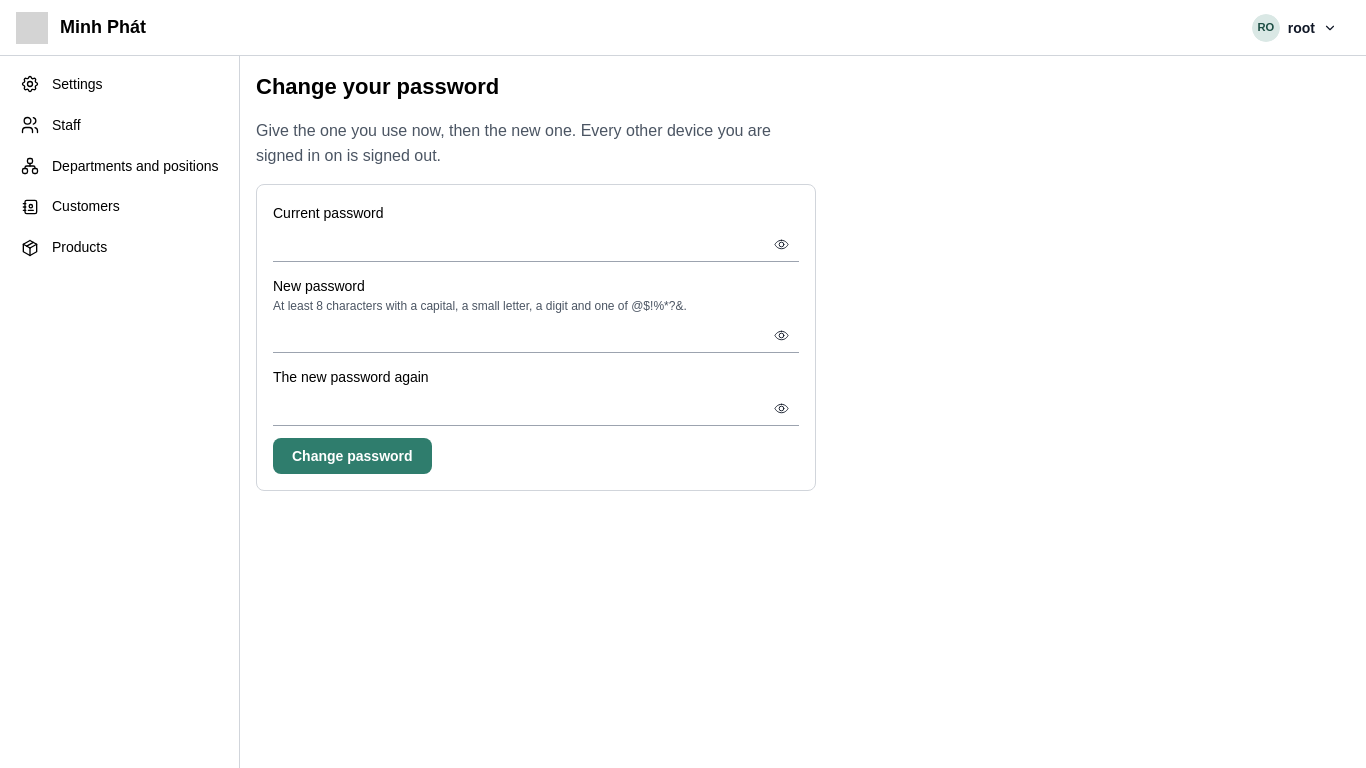
one’s own password › C: The root changes their own password too, and takes the session that replaces theirs
Type "Old-password-1!" into the password field labelled "Current password" at (536, 244), box [273,226,799,261]
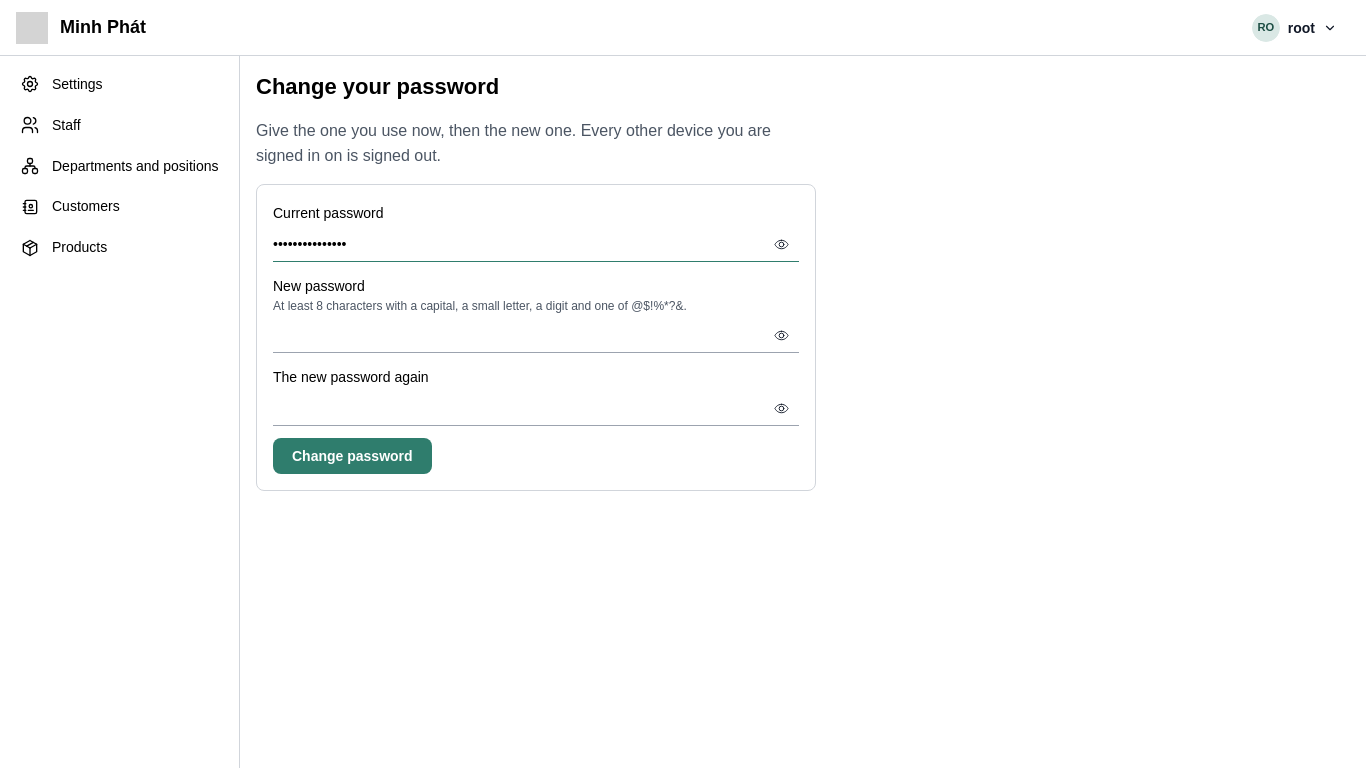
Type "New-password-2@" into the password field labelled "New password" at (536, 335), box [273,317,799,352]
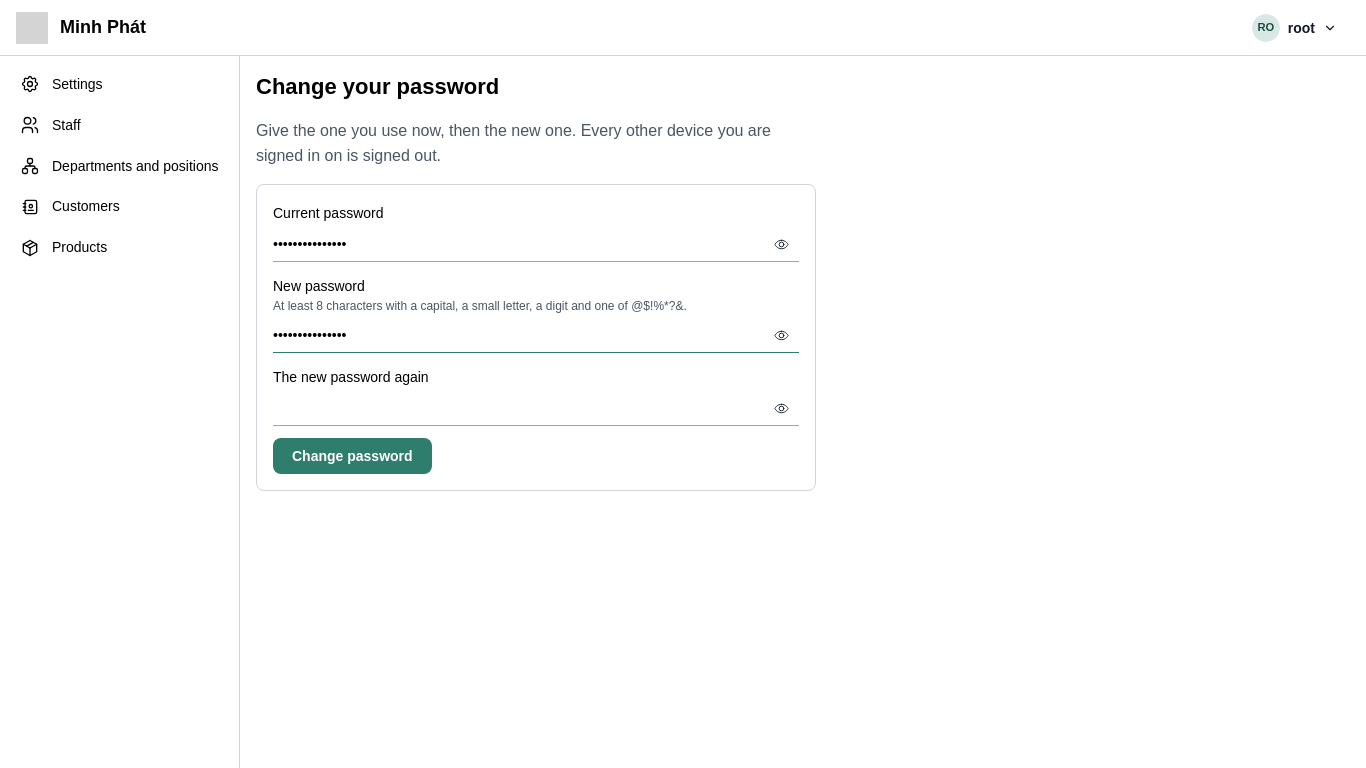
Type "New-password-2@" into the password field labelled "The new password again" at (536, 408), box [273,390,799,425]
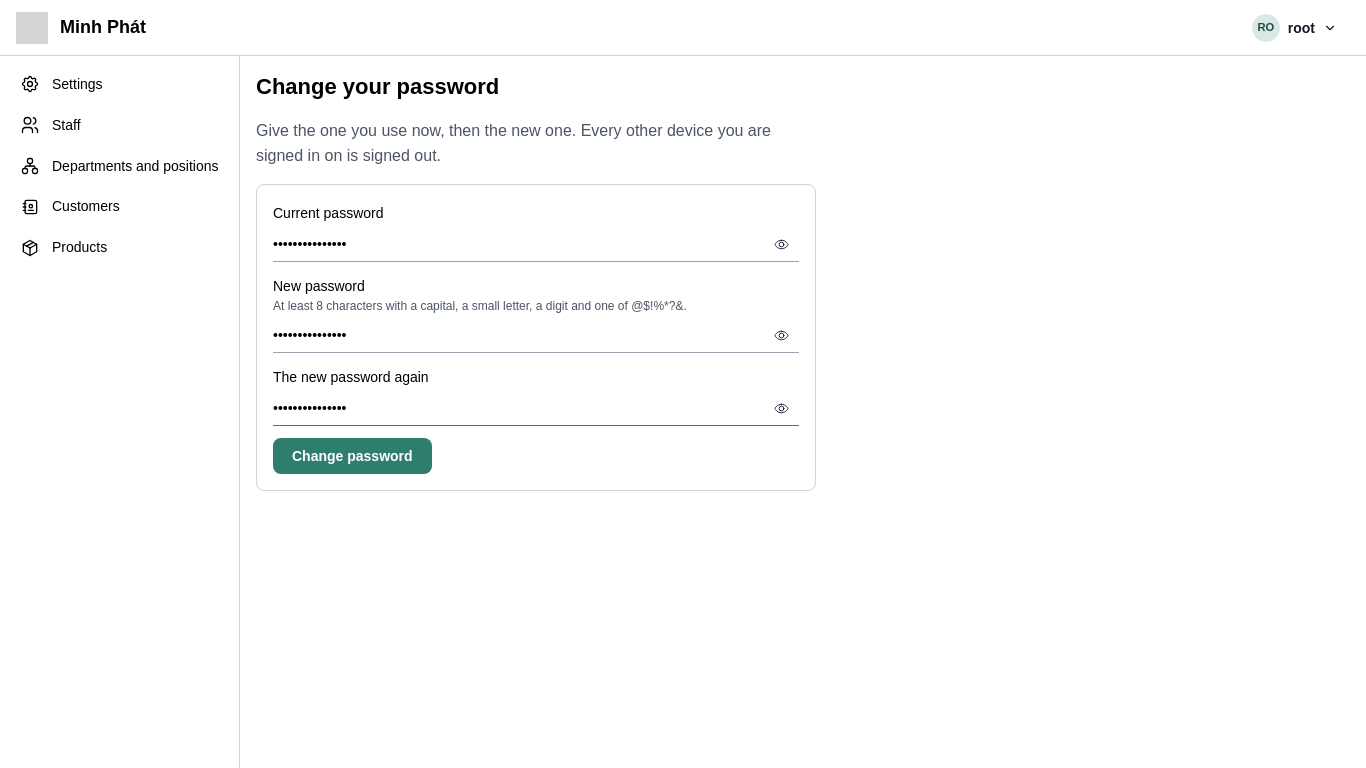
Click the button "Change password" at (352, 456), box [273,438,432,474]
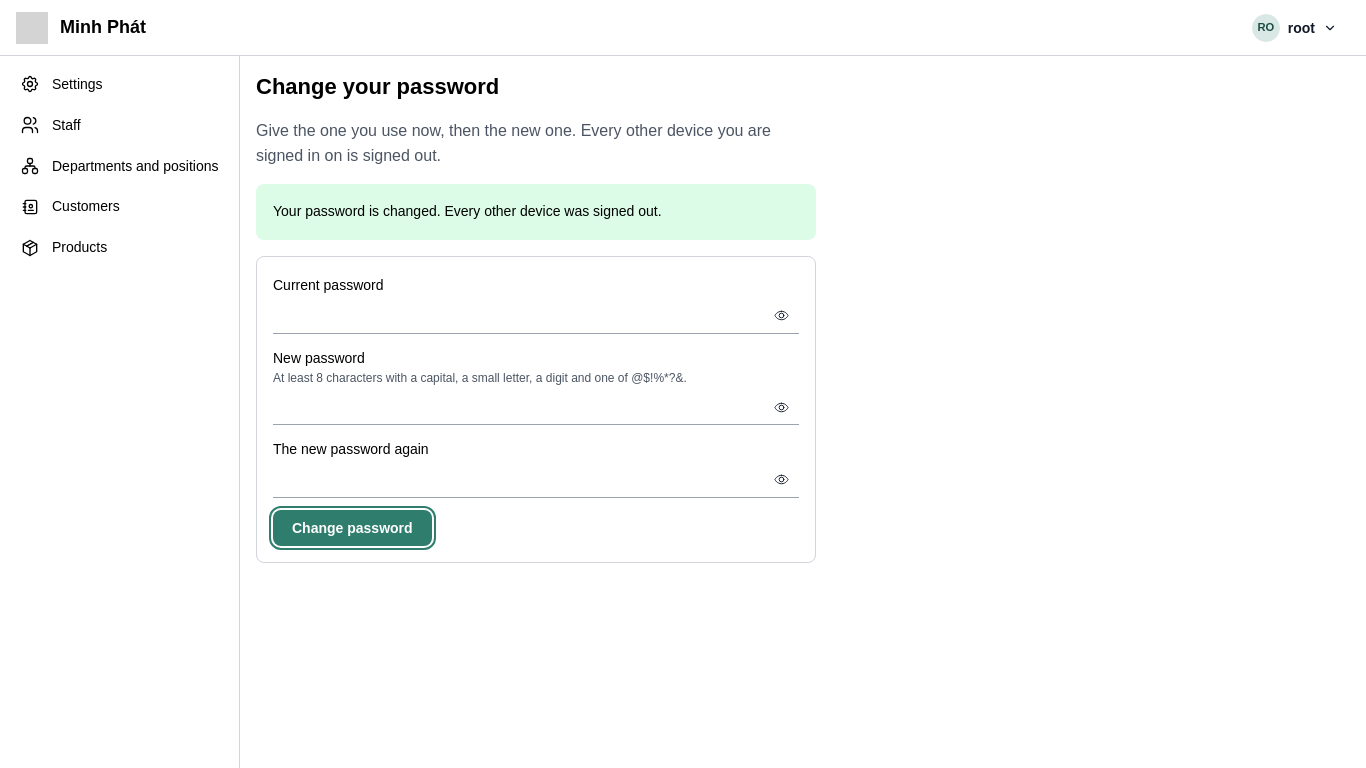
Expected: the text "Your password is changed. Every other device was signed out." is shown, [273,203,662,219]
